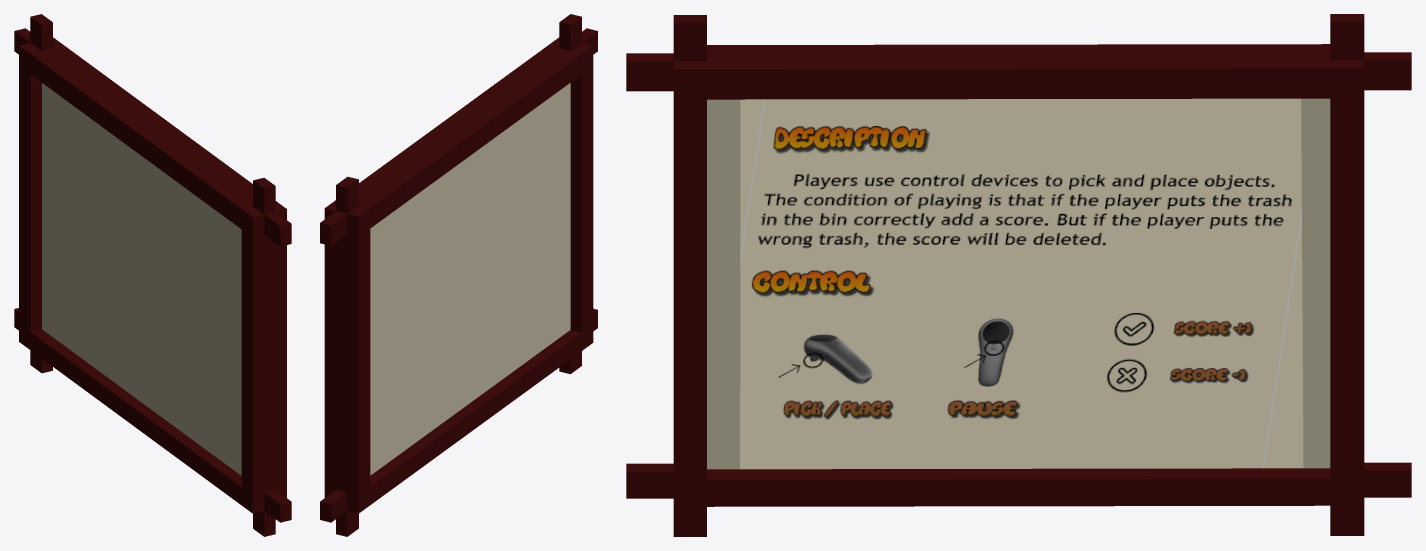
The model's file is howto_info5.fbx.
The picture shows the model from 3 angles, left to right: view 1: azimuth 30°, elevation 25°; view 2: azimuth 150°, elevation 25°; view 3: azimuth 270°, elevation 25°; orthographic projection. The views are drawn at different scales.
Visible parts, largest first — view 1: sign_info2; view 2: sign_info2; view 3: sign_info2.
Boxes of the visible parts, bbox=[...] form: sign_info2: bbox=[14, 14, 291, 536]; sign_info2: bbox=[320, 14, 597, 536]; sign_info2: bbox=[626, 14, 1411, 536].
Size of the model in its own units: 0.7015 by 6.86 by 9.49.
Materials: 3 (1 with a texture image).
